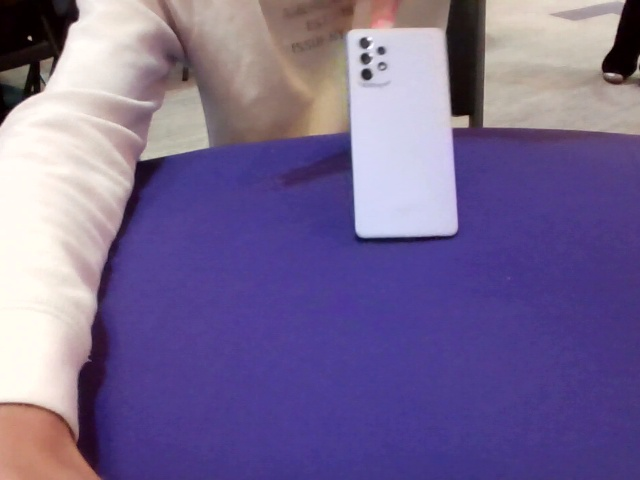celular: (345, 25, 458, 240)
